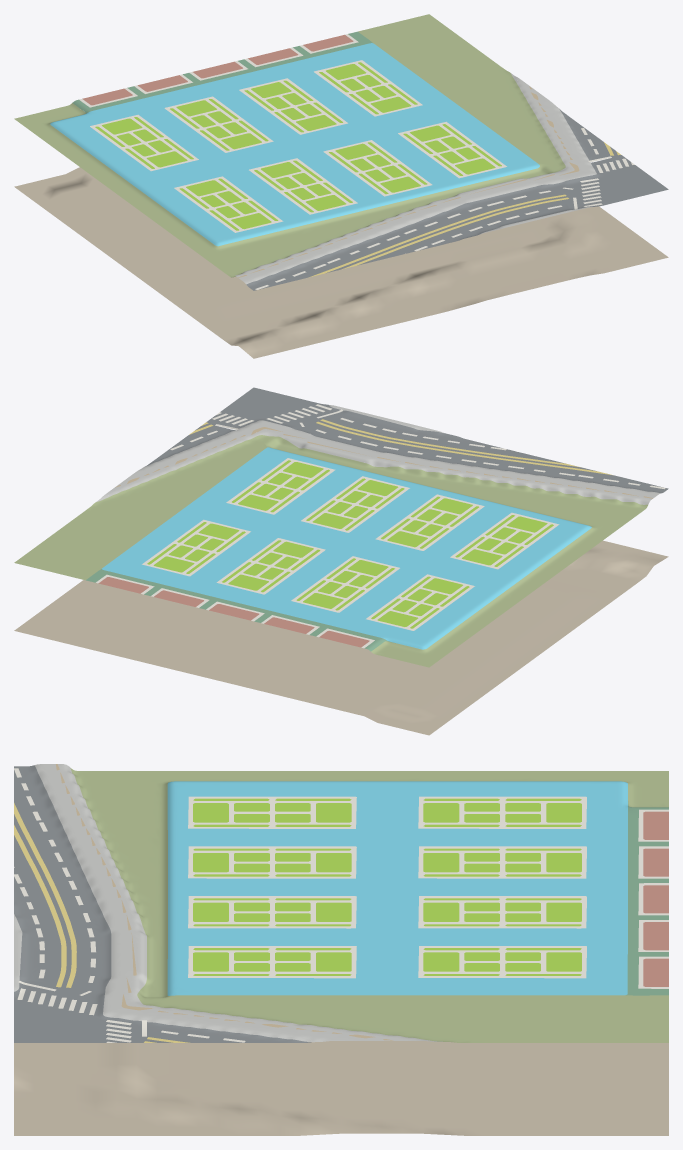
3 renders of one model, top to bottom at view 1: azimuth 30°, elevation 25°; view 2: azimuth 150°, elevation 25°; view 3: azimuth 270°, elevation 25°, orthographic. The views are drawn at different scales.
Parts seen in each view (by area): view 1: s_-3_-4__soil, s_-3_-4__tennis_blue, s_-3_-4__grass, s_-3_-4__tennis_lime, s_-3_-4__white_marking, s_-3_-4__asphalt, s_-3_-4__stone_paving, s_-3_-4__red_court, s_-3_-4__green_court, s_-3_-4__yellow_marking, s_-3_-4__timber_deck; view 2: s_-3_-4__soil, s_-3_-4__tennis_blue, s_-3_-4__grass, s_-3_-4__tennis_lime, s_-3_-4__white_marking, s_-3_-4__asphalt, s_-3_-4__stone_paving, s_-3_-4__red_court, s_-3_-4__green_court, s_-3_-4__yellow_marking, s_-3_-4__timber_deck; view 3: s_-3_-4__soil, s_-3_-4__tennis_blue, s_-3_-4__grass, s_-3_-4__tennis_lime, s_-3_-4__white_marking, s_-3_-4__asphalt, s_-3_-4__stone_paving, s_-3_-4__red_court, s_-3_-4__green_court, s_-3_-4__yellow_marking, s_-3_-4__timber_deck.
Boxes of the visible parts, <box> form: s_-3_-4__soil: <box>14,167,668,358</box>; s_-3_-4__tennis_blue: <box>50,43,539,246</box>; s_-3_-4__grass: <box>14,14,565,277</box>; s_-3_-4__tennis_lime: <box>95,62,501,230</box>; s_-3_-4__white_marking: <box>79,34,634,289</box>; s_-3_-4__asphalt: <box>246,109,668,290</box>; s_-3_-4__stone_paving: <box>235,73,596,284</box>; s_-3_-4__red_court: <box>82,34,353,105</box>; s_-3_-4__green_court: <box>72,31,372,113</box>; s_-3_-4__yellow_marking: <box>309,142,620,277</box>; s_-3_-4__timber_deck: <box>238,86,579,277</box>; s_-3_-4__soil: <box>14,540,668,735</box>; s_-3_-4__tennis_blue: <box>102,447,591,649</box>; s_-3_-4__grass: <box>14,435,647,667</box>; s_-3_-4__tennis_lime: <box>147,460,553,628</box>; s_-3_-4__white_marking: <box>96,404,665,648</box>; s_-3_-4__asphalt: <box>145,387,668,493</box>; s_-3_-4__stone_paving: <box>96,405,660,504</box>; s_-3_-4__red_court: <box>98,577,369,647</box>; s_-3_-4__green_court: <box>86,569,395,651</box>; s_-3_-4__yellow_marking: <box>189,419,612,475</box>; s_-3_-4__timber_deck: <box>115,427,653,498</box>; s_-3_-4__soil: <box>14,1041,668,1135</box>; s_-3_-4__tennis_blue: <box>167,781,627,995</box>; s_-3_-4__grass: <box>70,768,668,1042</box>; s_-3_-4__tennis_lime: <box>193,798,581,975</box>; s_-3_-4__white_marking: <box>14,768,668,1042</box>; s_-3_-4__asphalt: <box>14,765,311,1042</box>; s_-3_-4__stone_paving: <box>14,764,442,1042</box>; s_-3_-4__red_court: <box>643,811,668,986</box>; s_-3_-4__green_court: <box>626,801,668,995</box>; s_-3_-4__yellow_marking: <box>14,803,189,1042</box>; s_-3_-4__timber_deck: <box>56,764,393,1040</box>.
Size of the model in its own units: 128 by 21.51 by 128.
